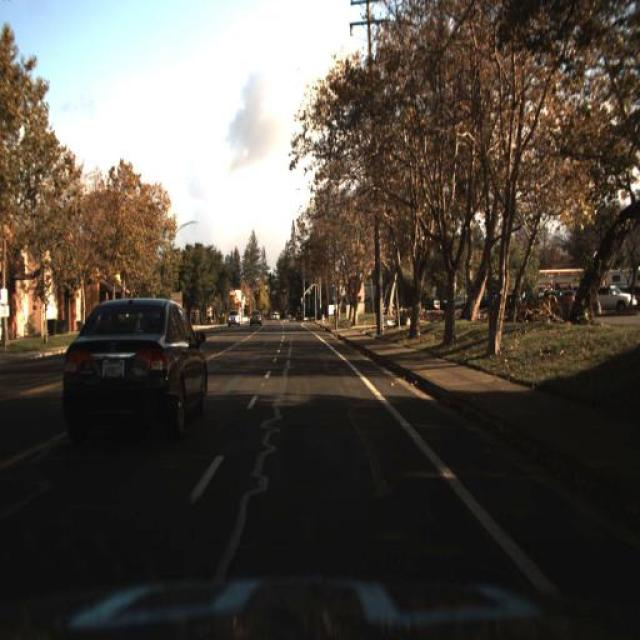car: (60, 291, 212, 450), (596, 288, 636, 311), (248, 308, 262, 328), (228, 311, 241, 327), (296, 311, 304, 321), (272, 312, 280, 321)
